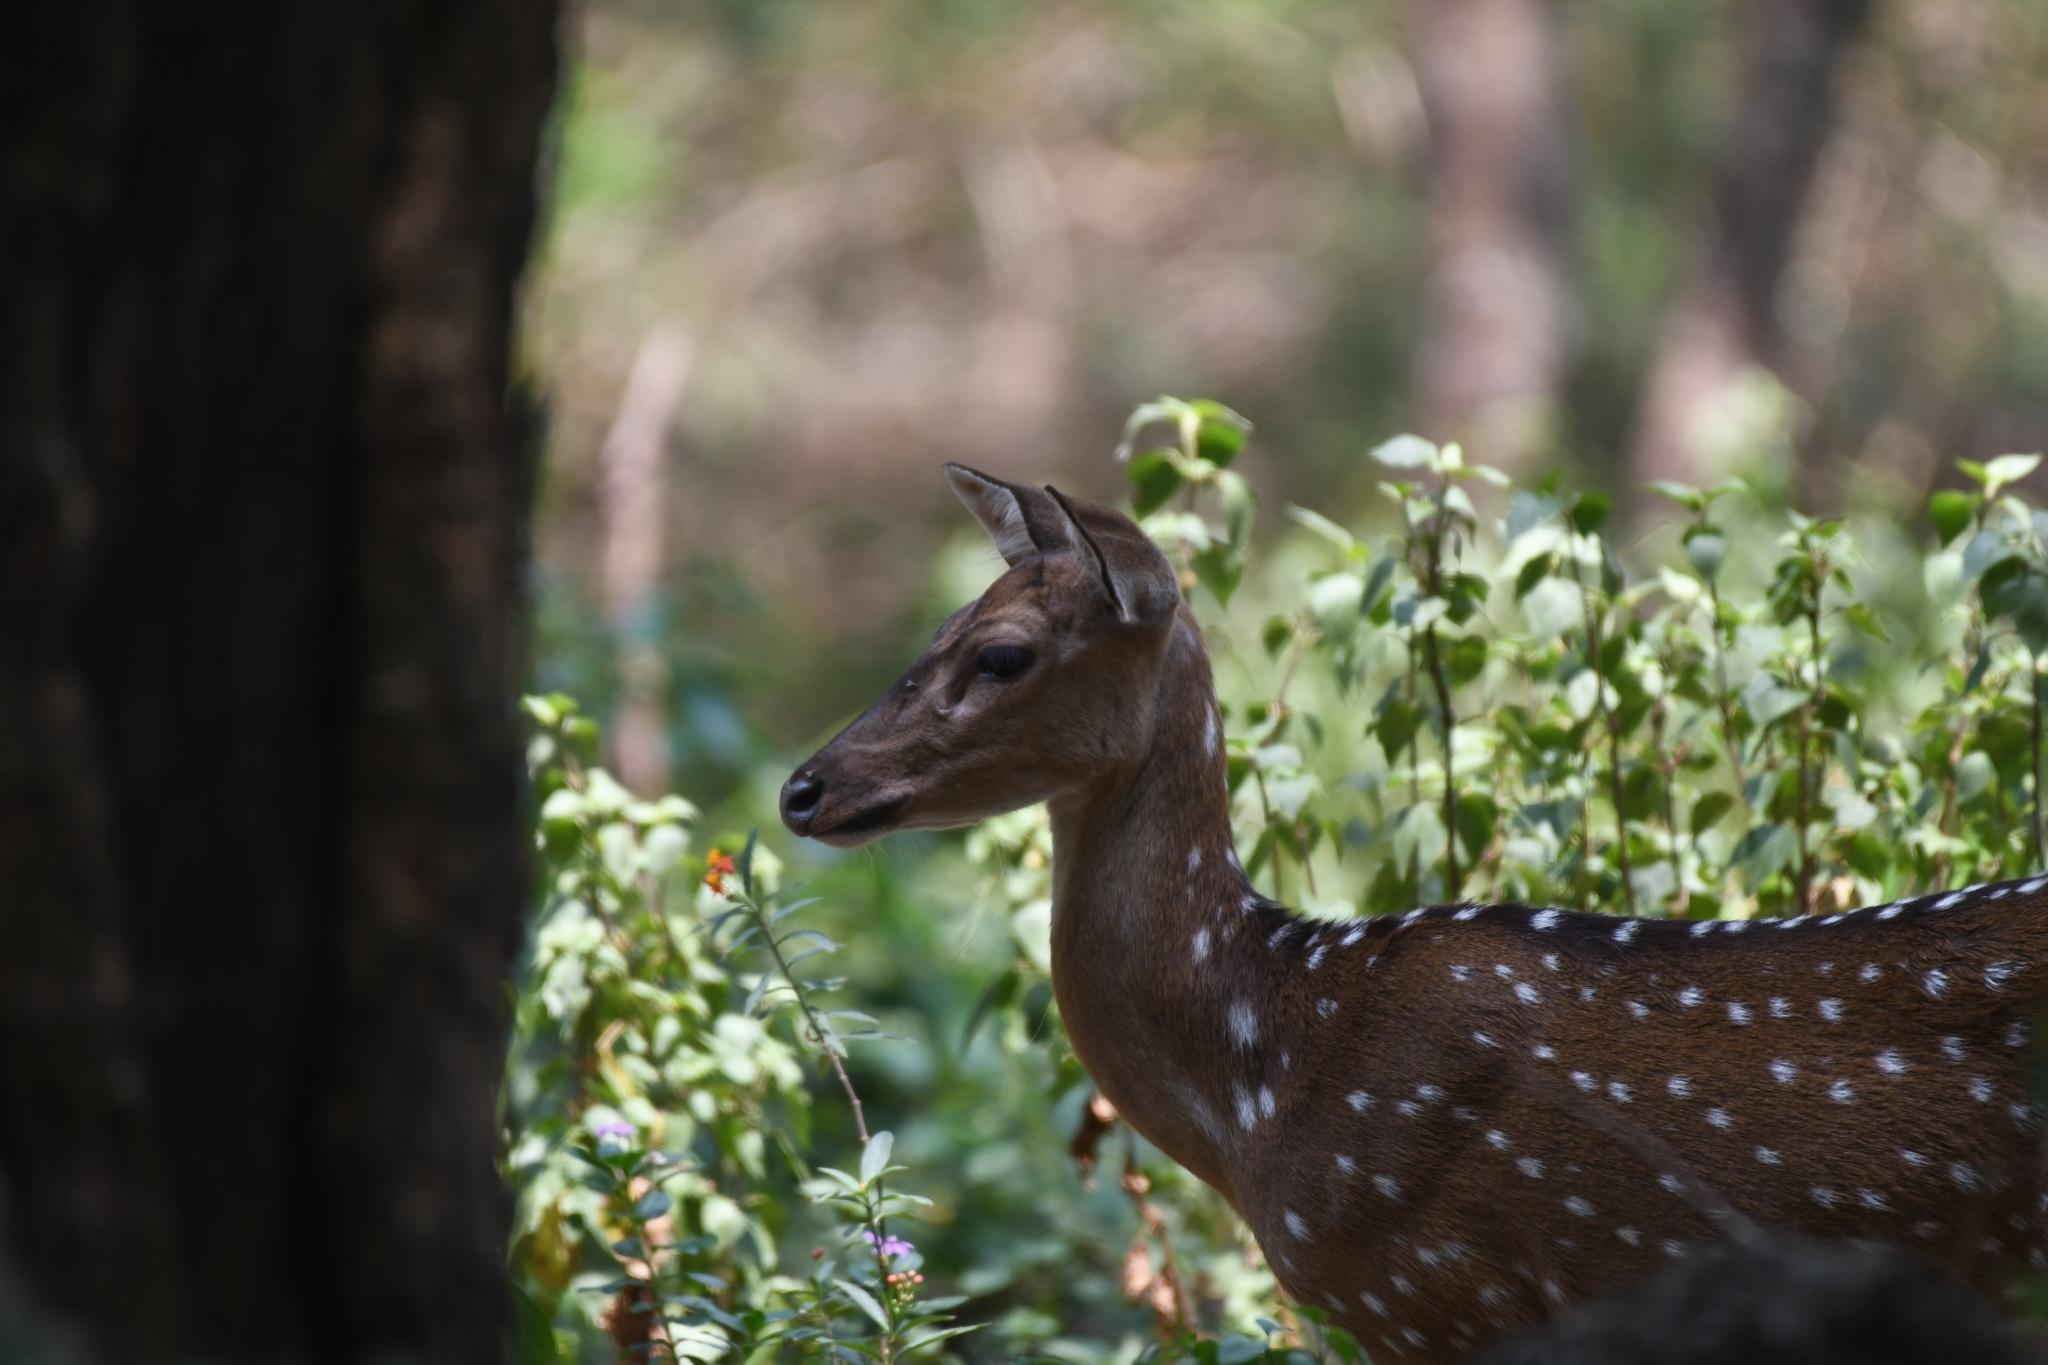Deer: (781, 465, 2046, 1363)
